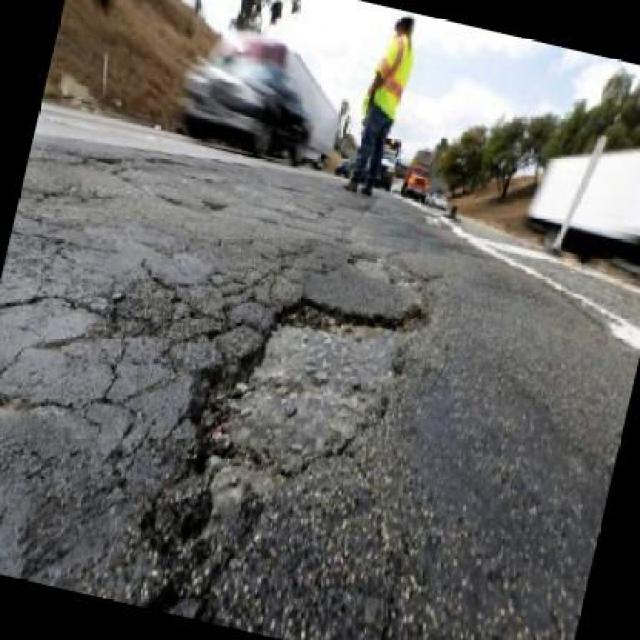pothole: (171, 252, 435, 511), (123, 470, 268, 627), (348, 246, 435, 296)
